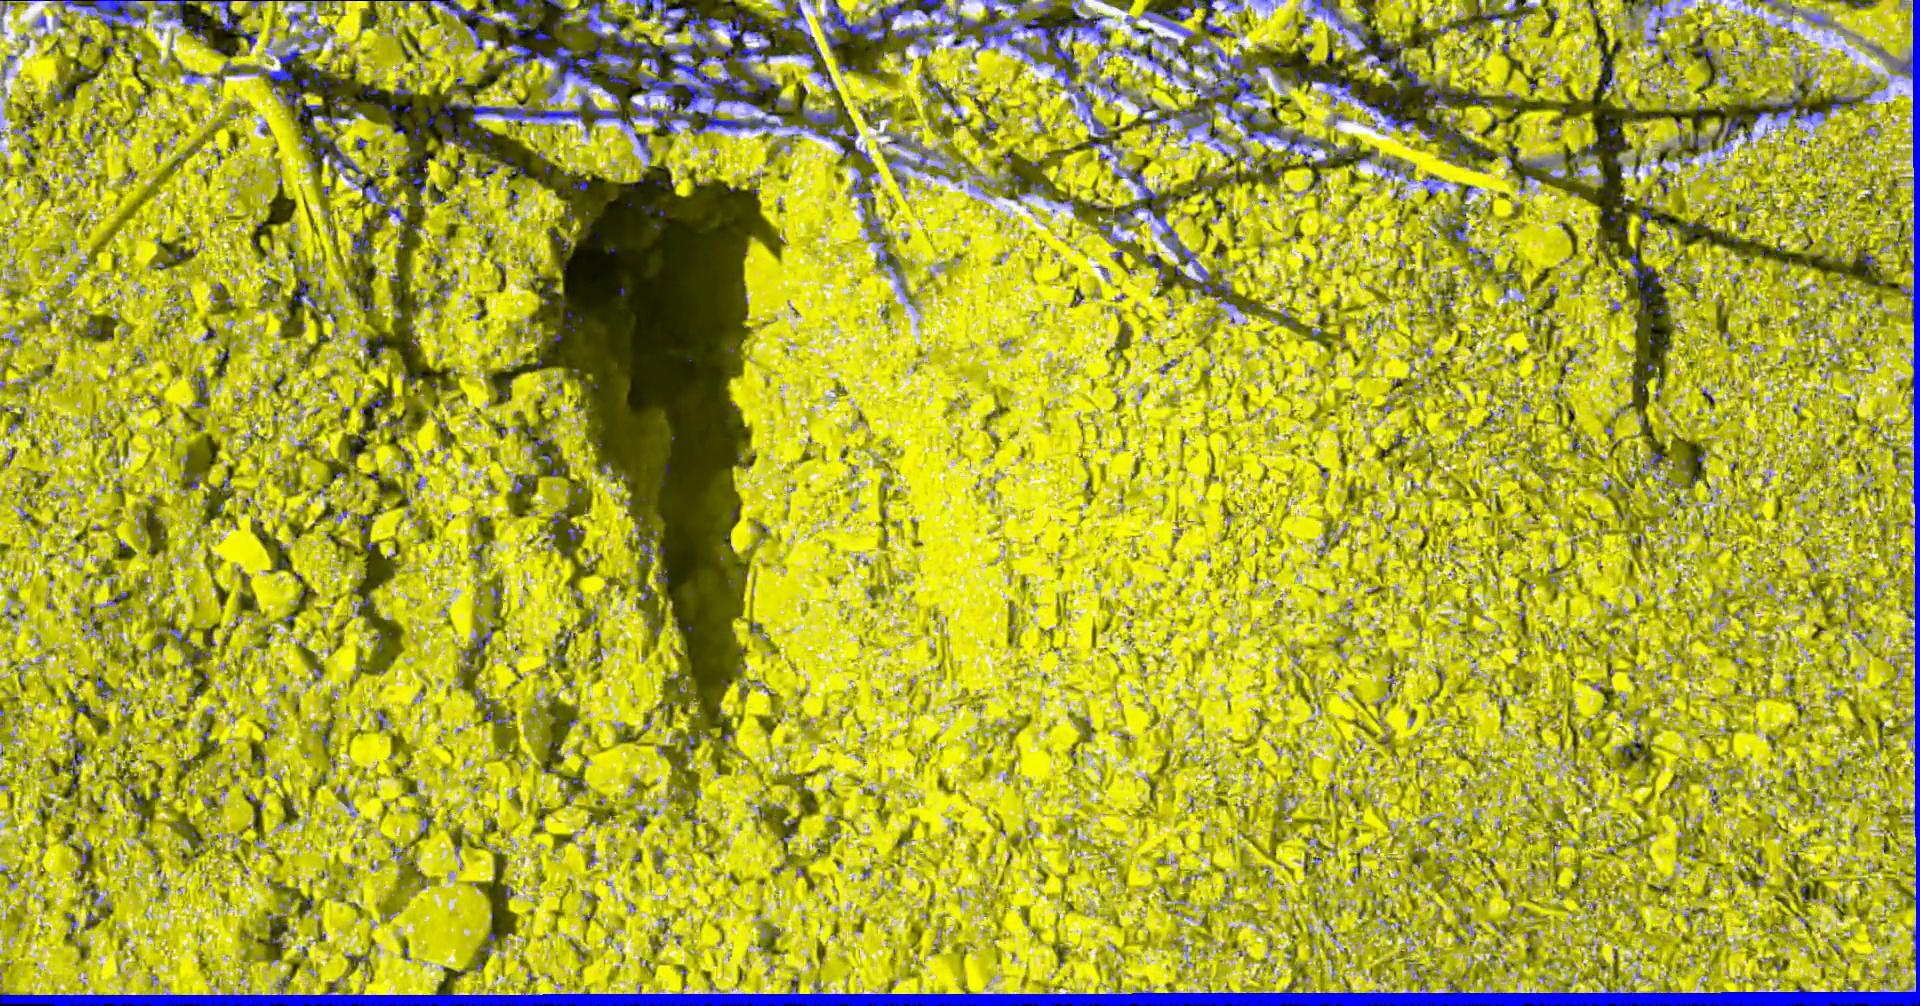ant: (297, 95, 361, 174), (941, 10, 1025, 52), (1144, 0, 1236, 38), (635, 0, 720, 34), (1112, 165, 1158, 229), (62, 0, 146, 30), (207, 0, 258, 50), (1350, 91, 1415, 127), (493, 0, 550, 39), (1149, 98, 1209, 131), (260, 50, 303, 93), (1291, 64, 1352, 94), (1203, 71, 1261, 102), (800, 104, 850, 138), (400, 146, 434, 196), (1443, 127, 1497, 158), (423, 0, 491, 24), (1628, 251, 1653, 315), (1768, 95, 1825, 119), (1192, 279, 1238, 309), (838, 126, 870, 164), (1714, 113, 1750, 142), (1232, 105, 1263, 137), (1087, 116, 1114, 152), (350, 221, 378, 254), (1183, 33, 1197, 91), (927, 80, 955, 109), (361, 177, 387, 206), (385, 207, 417, 231), (156, 0, 185, 25), (1145, 51, 1171, 79), (307, 65, 331, 93), (1693, 30, 1713, 62), (1519, 163, 1542, 191), (293, 279, 316, 307), (546, 0, 568, 29), (1217, 50, 1247, 70), (1829, 94, 1869, 109), (895, 27, 938, 41), (853, 175, 871, 207), (813, 64, 834, 89), (566, 15, 599, 32), (761, 97, 783, 119), (1599, 51, 1611, 91), (877, 253, 899, 276), (69, 742, 83, 775), (1418, 119, 1443, 138), (1854, 250, 1873, 274), (1144, 202, 1164, 224), (1286, 131, 1305, 154), (1175, 241, 1194, 264), (466, 24, 483, 50), (1100, 77, 1121, 97), (637, 533, 651, 563), (1200, 57, 1224, 72), (1446, 222, 1464, 243), (192, 15, 207, 38), (824, 32, 842, 51), (95, 676, 109, 699), (284, 86, 301, 105), (985, 0, 999, 22), (1145, 254, 1163, 271), (1622, 738, 1639, 754), (392, 80, 411, 95), (1578, 144, 1601, 156), (1029, 180, 1054, 192), (566, 522, 582, 541), (475, 634, 490, 653), (1120, 43, 1143, 55), (979, 118, 996, 133), (368, 392, 385, 408), (387, 119, 405, 133), (1392, 86, 1403, 108), (1310, 140, 1335, 150), (1332, 152, 1355, 163), (1382, 160, 1397, 175), (88, 320, 102, 335), (1263, 127, 1281, 138), (571, 179, 588, 191), (1639, 206, 1653, 218), (198, 377, 206, 398)
